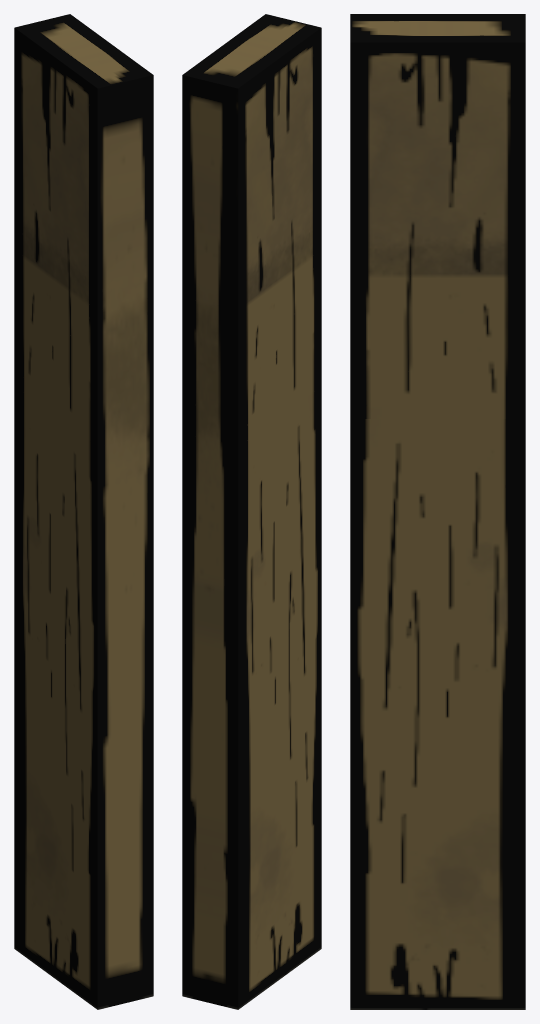
File: tombstone_03_gib1.fbx
3 views of the same model, side by side, from view 1: azimuth 30°, elevation 25°; view 2: azimuth 150°, elevation 25°; view 3: azimuth 270°, elevation 25° (orthographic). The views are drawn at different scales.
Parts seen in each view (by area): view 1: tombstone_03_gib1; view 2: tombstone_03_gib1; view 3: tombstone_03_gib1.
Boxes of the visible parts, <box> form: tombstone_03_gib1: <box>14,14,153,1009</box>; tombstone_03_gib1: <box>182,14,321,1009</box>; tombstone_03_gib1: <box>350,14,525,1009</box>.
Bounding box in the file's own units: 0.5 × 7.89 × 1.29.
